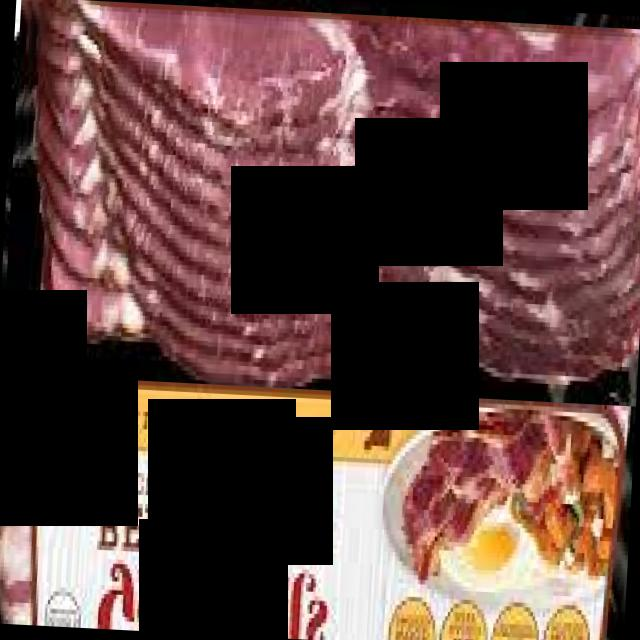bacon: (1, 0, 640, 407)
